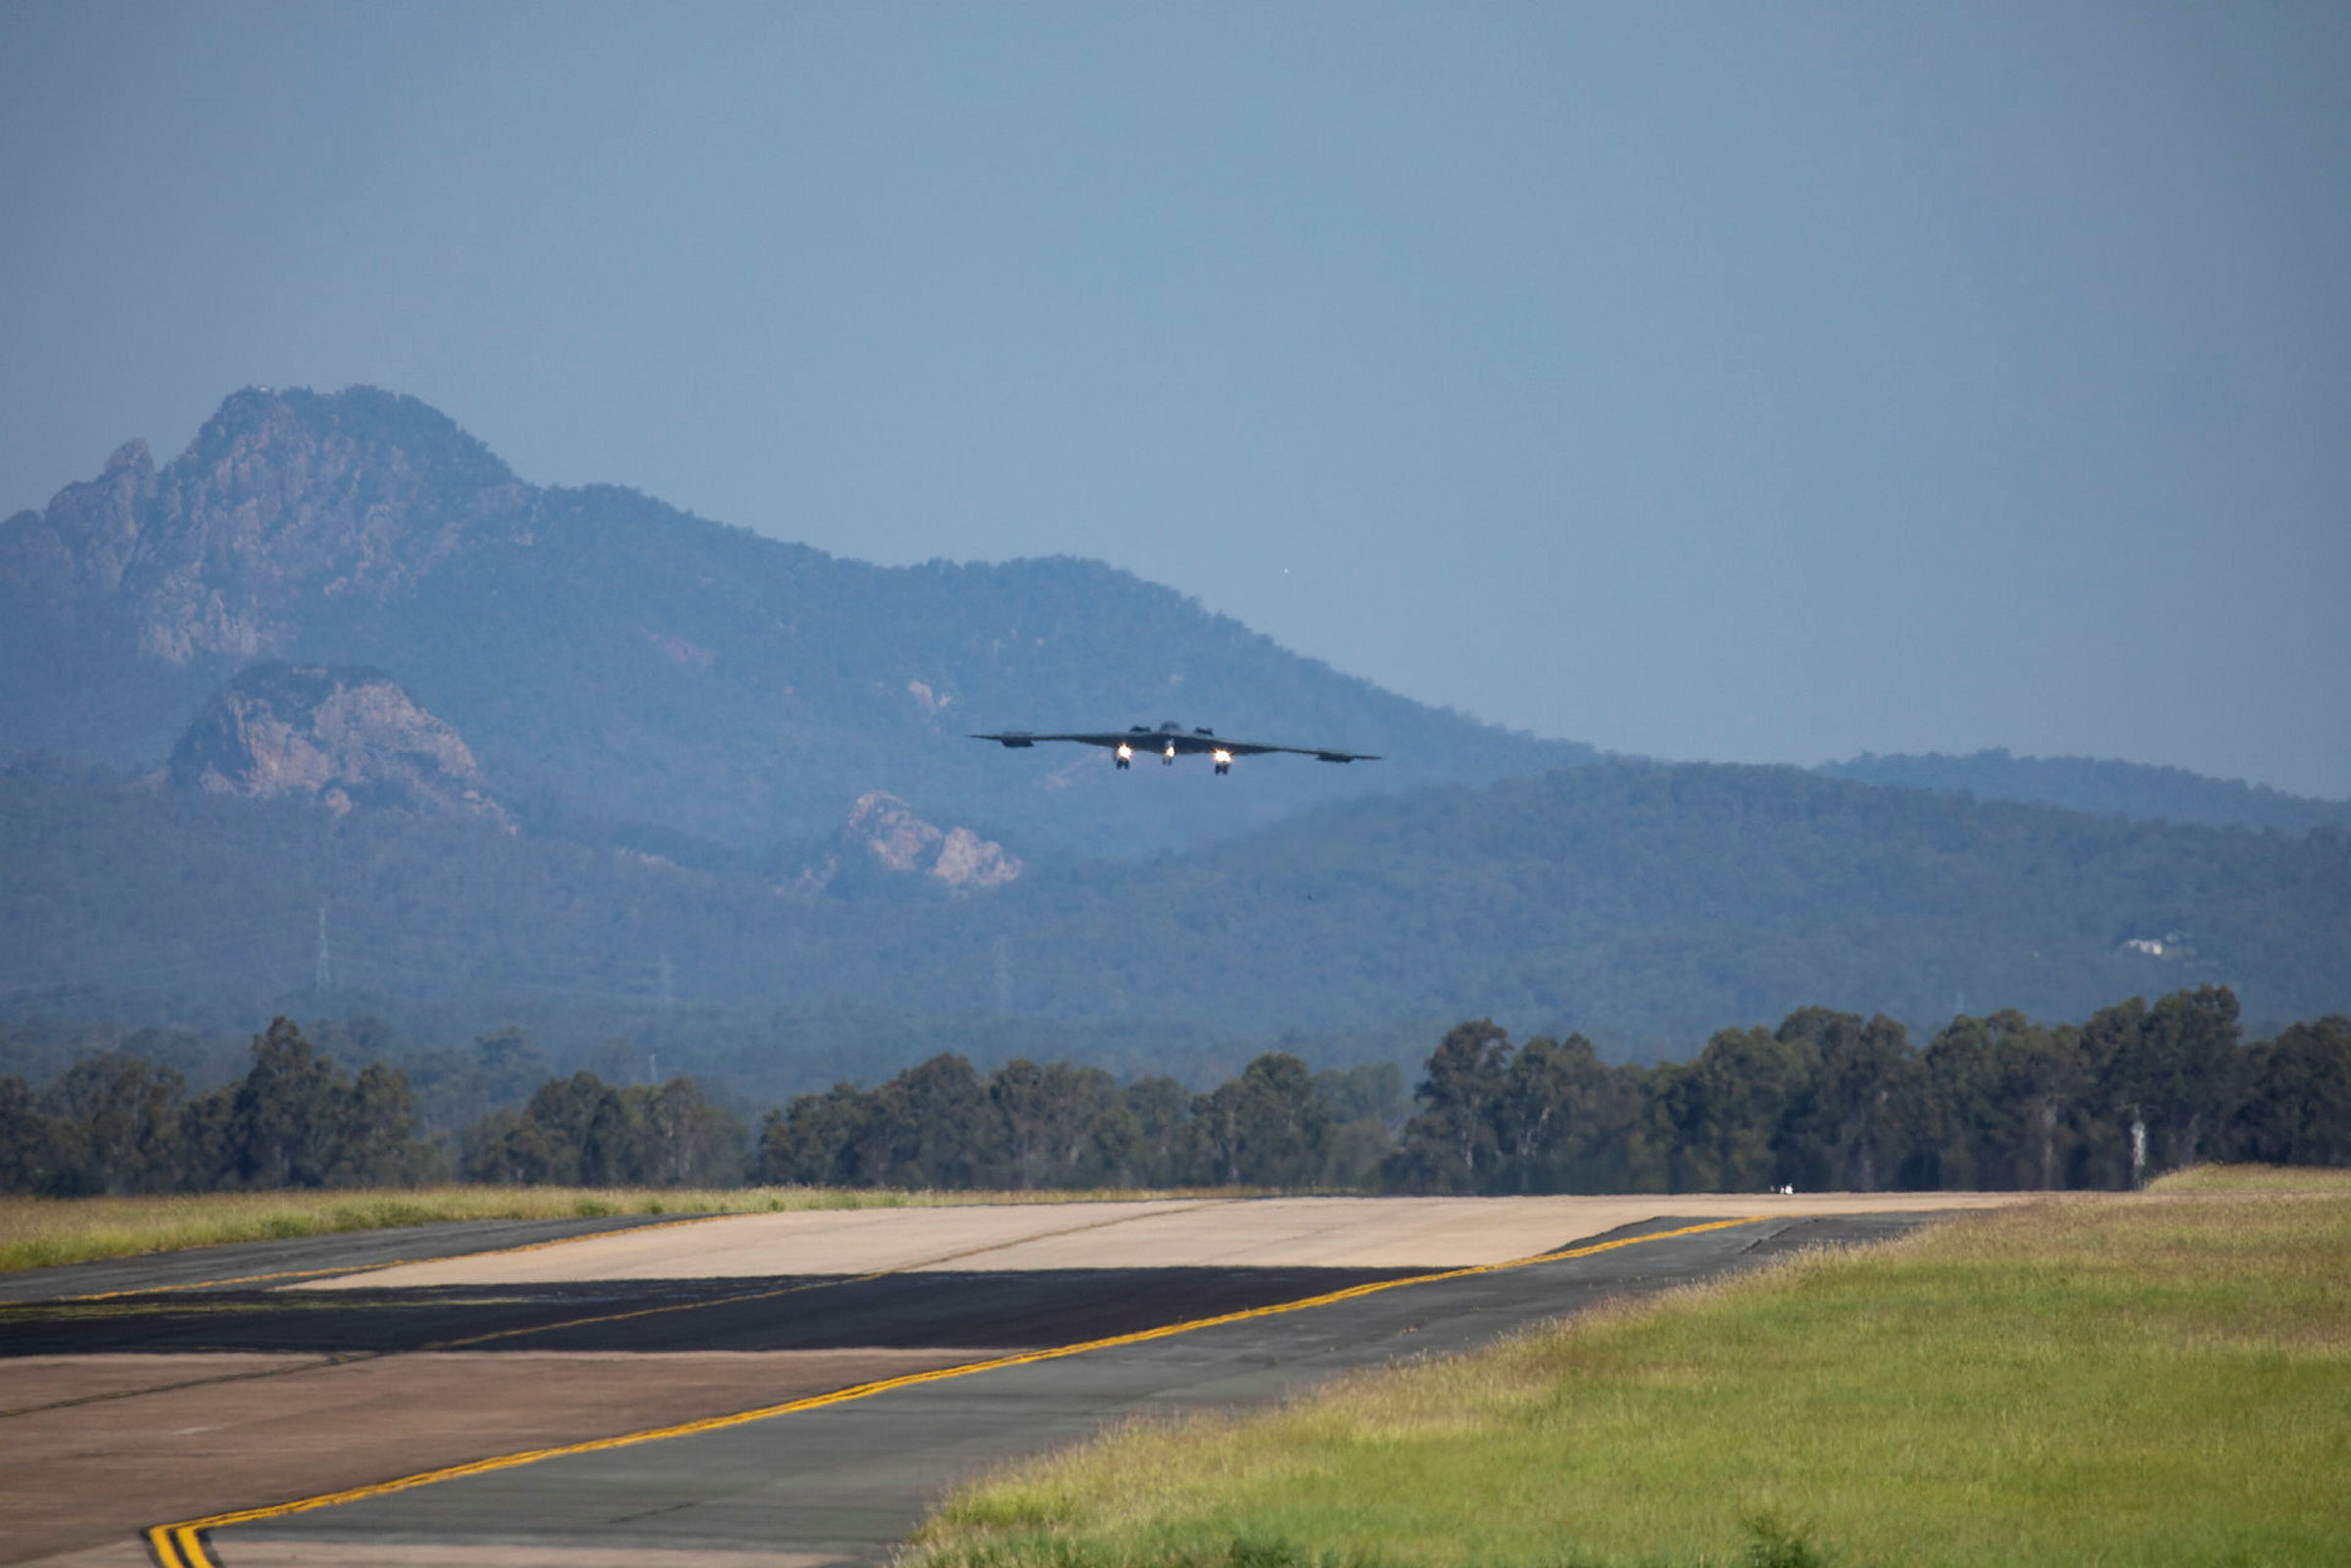B2: (965, 719, 1388, 775)
